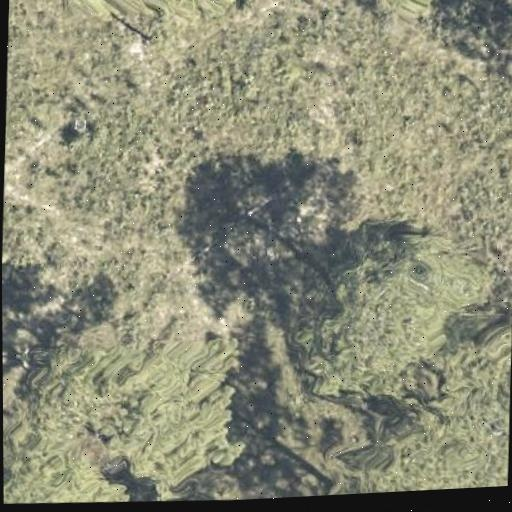tree-top: (316, 304, 512, 496), (290, 210, 470, 403), (107, 321, 245, 495), (64, 0, 243, 31), (364, 0, 434, 22)
